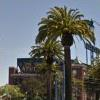Palm tree: (34, 0, 91, 96)
